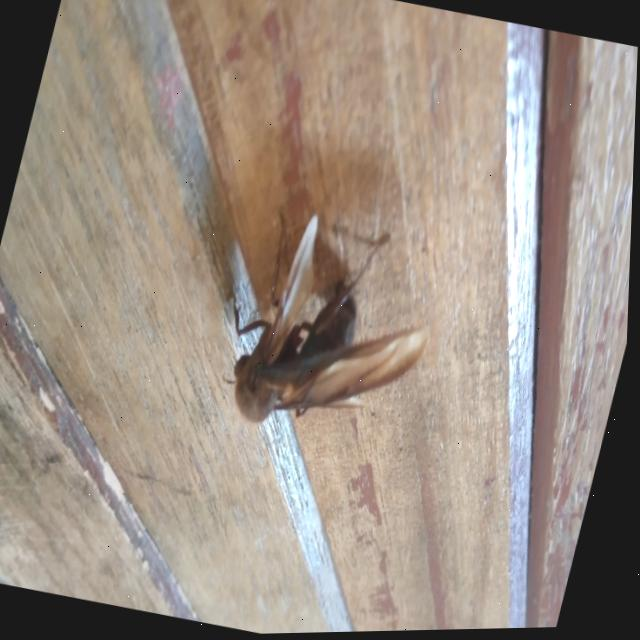Alive-Female-Alate: (196, 196, 457, 459)
